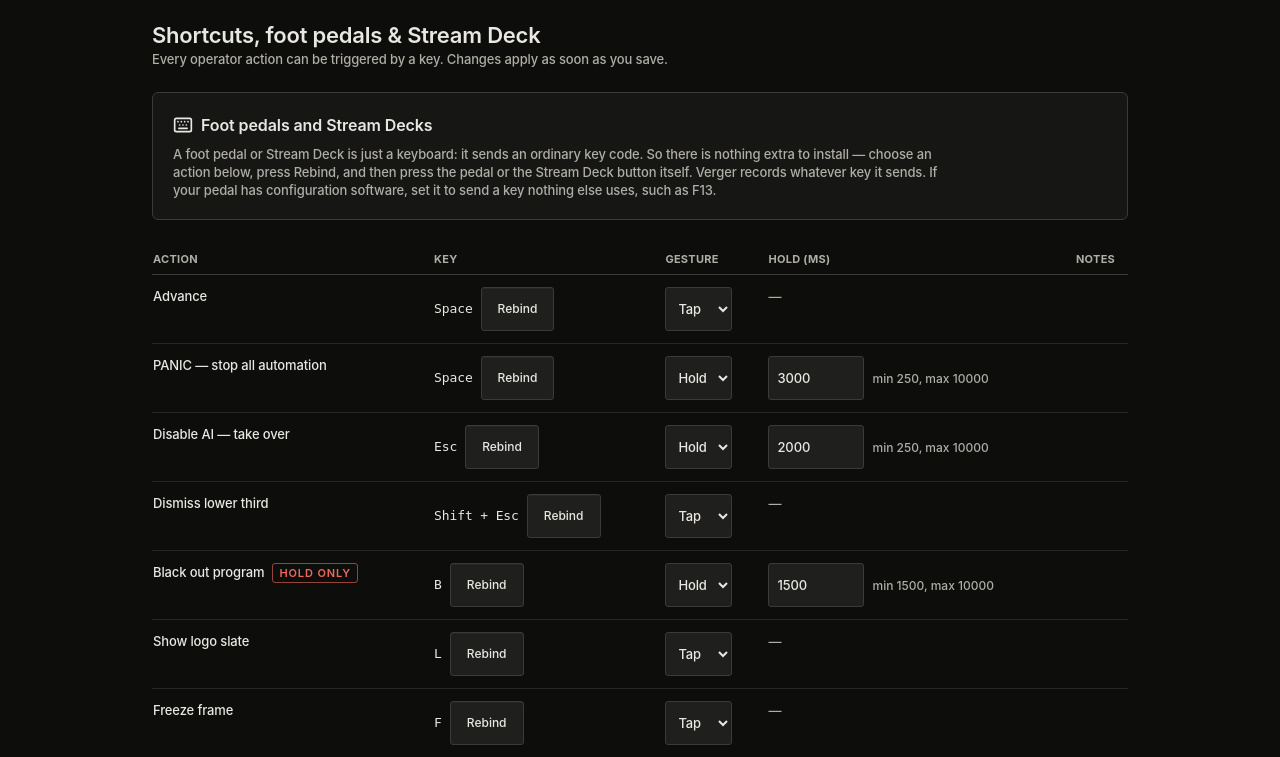
it: ShortcutSettings › the v2 regression guard › puts a destructive action on the floor when it is switched back to a hold
Select "Tap" in the dropdown named "gesture for black out program" in the row of "Black out program" at (699, 585), box [665,563,732,607]
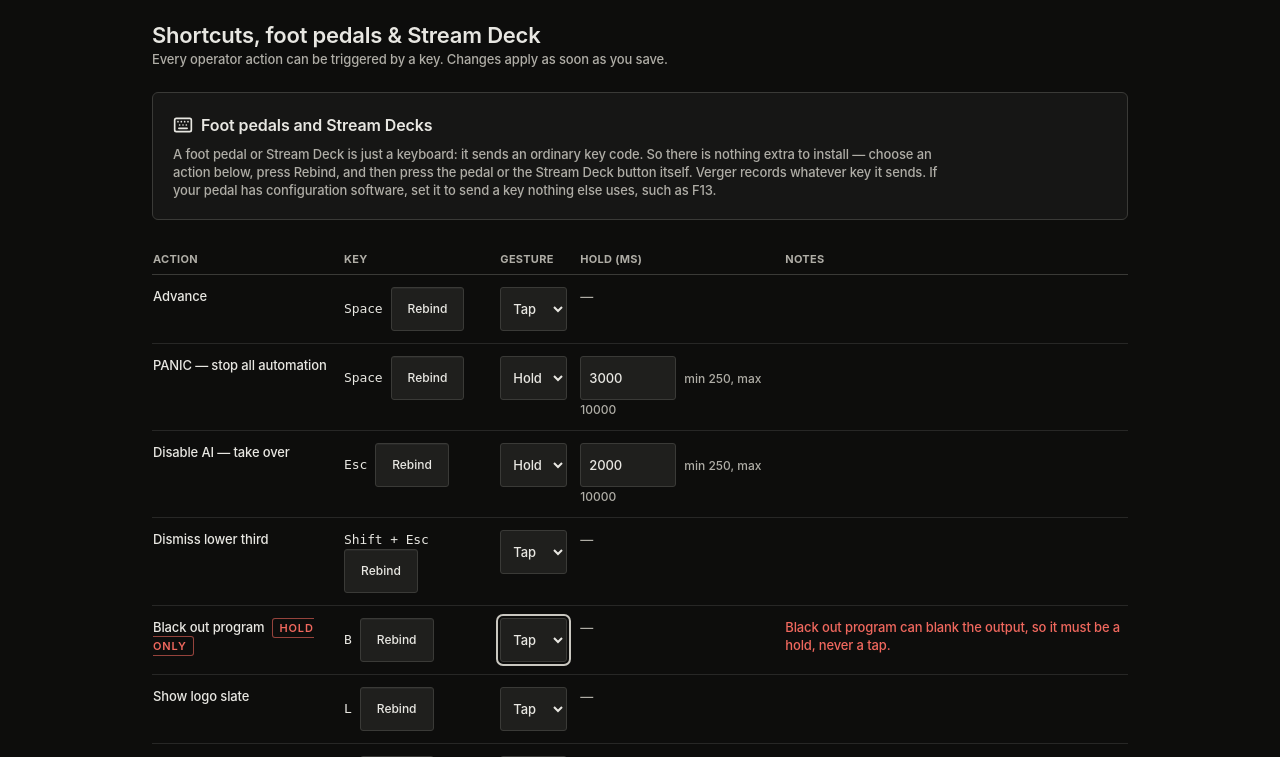
Select "Hold" in the 5th dropdown named "gesture for black out program" at (534, 640), box [500,618,567,662]
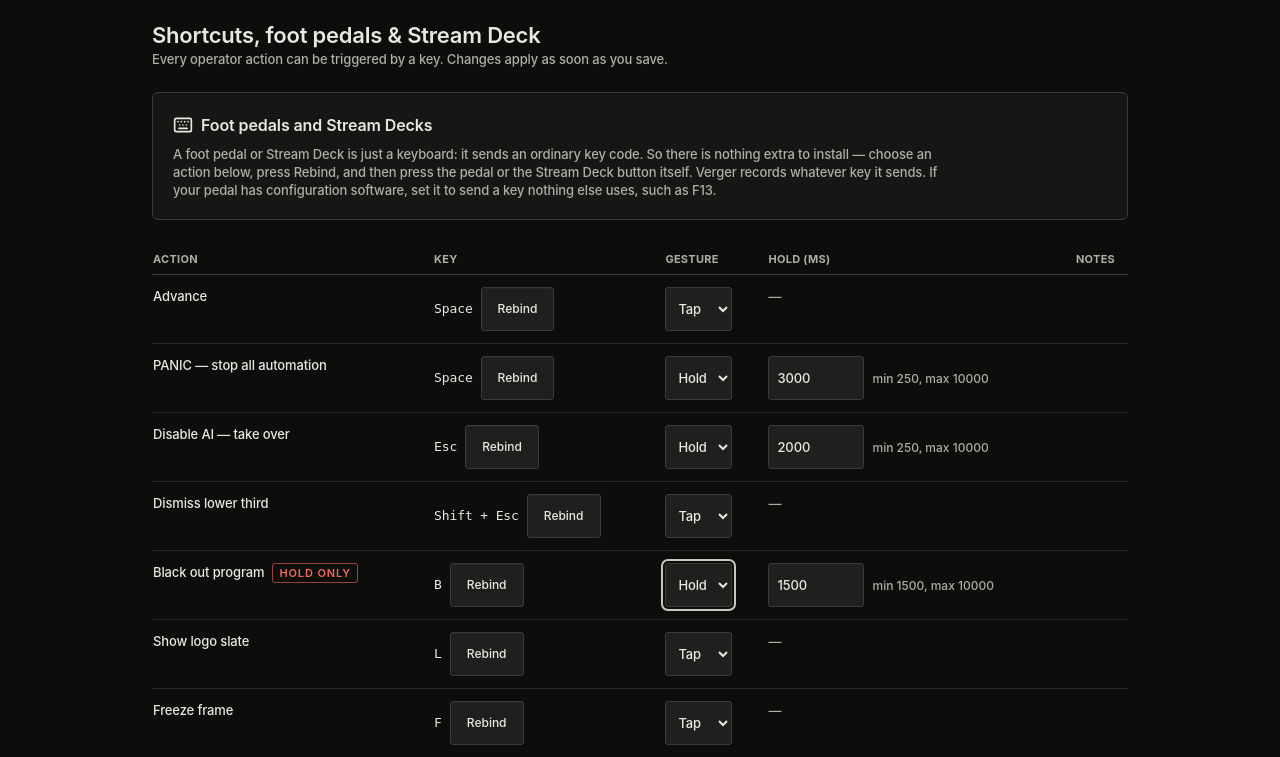
Check: the field named "hold duration for black out program" in the row of "Black out program" holds "1500", box [768,563,864,607]
Select "Hold" in the dropdown named "gesture for show logo slate" in the row of "Show logo slate" at (699, 654), box [665,632,732,676]
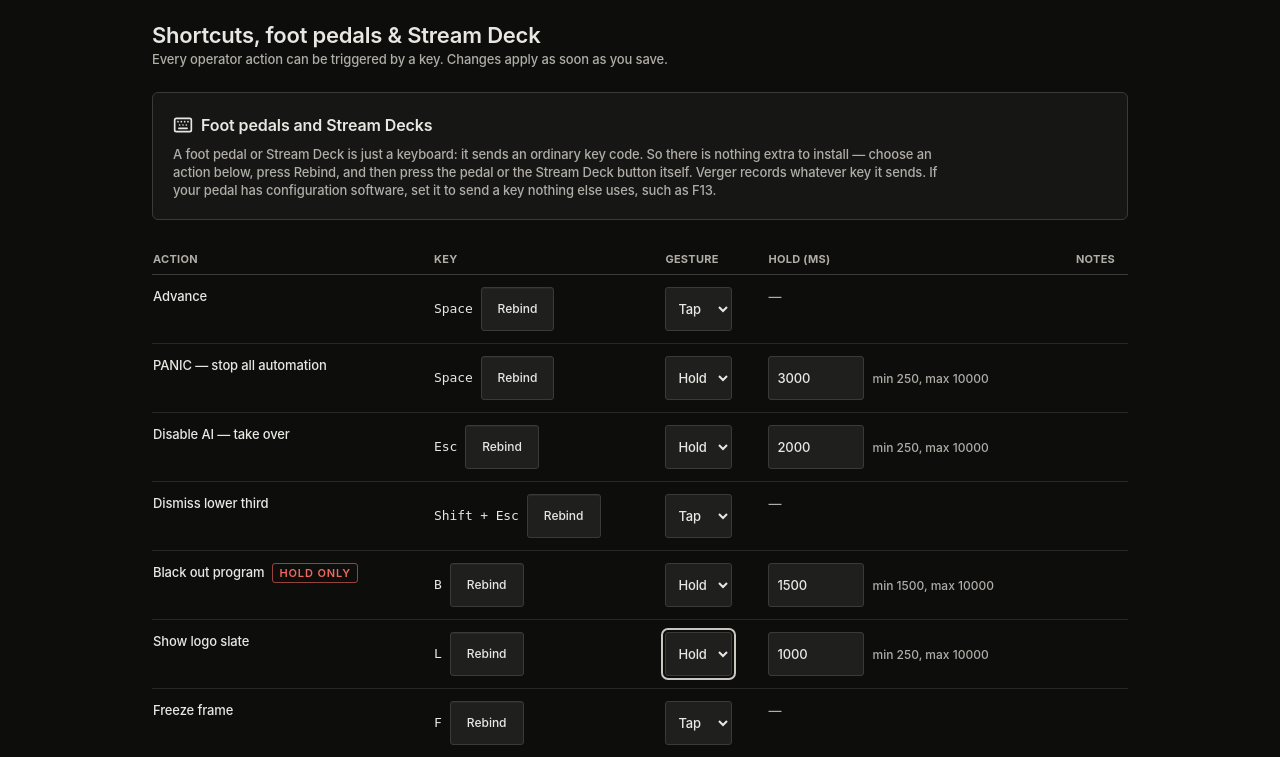
Check: the field named "hold duration for show logo slate" in the row of "Show logo slate" holds "1000", box [768,632,864,676]
